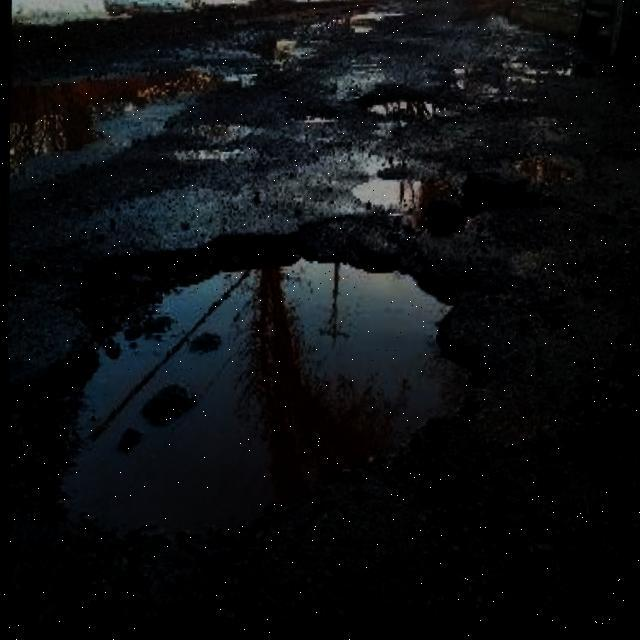pothole: (4, 193, 505, 573), (6, 56, 222, 191), (342, 168, 466, 248), (424, 171, 550, 247), (362, 82, 441, 136), (502, 152, 584, 200)
